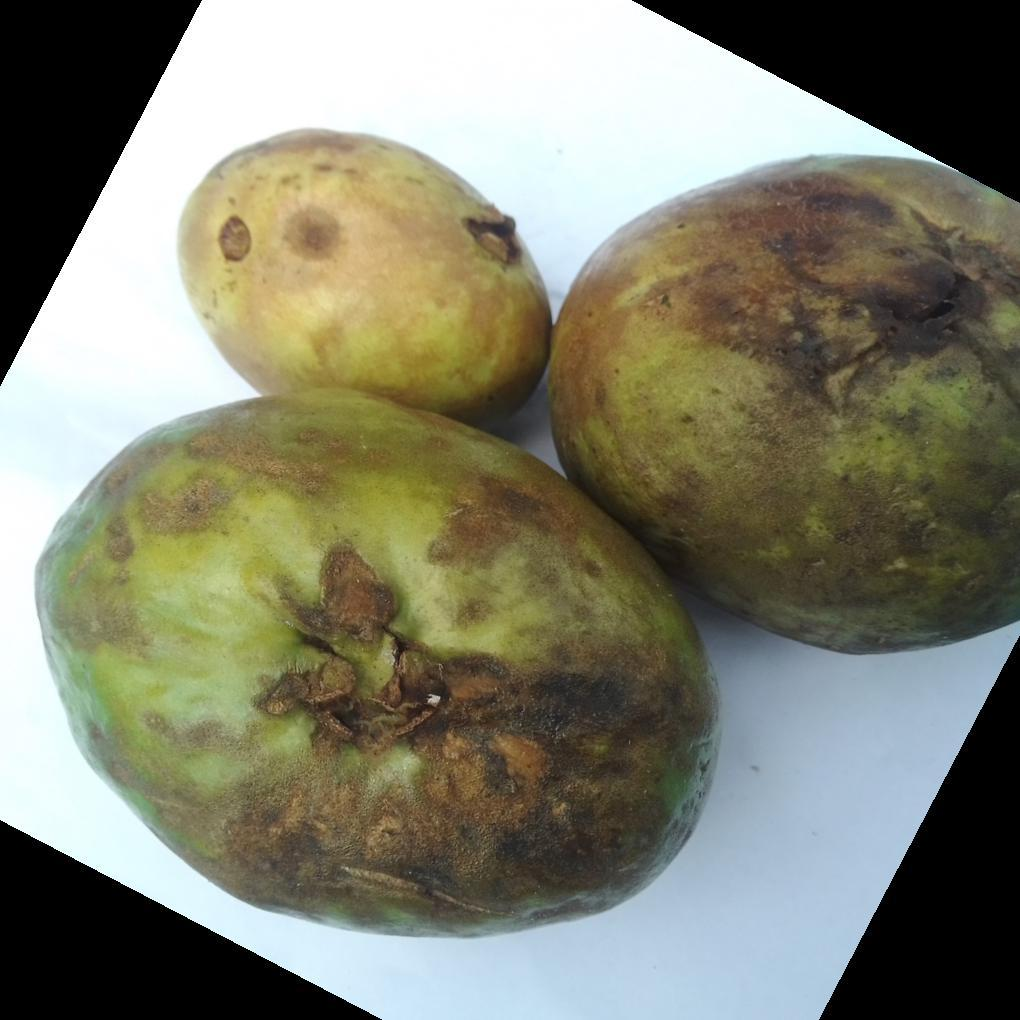FreshOrange: (31, 129, 1020, 942)
